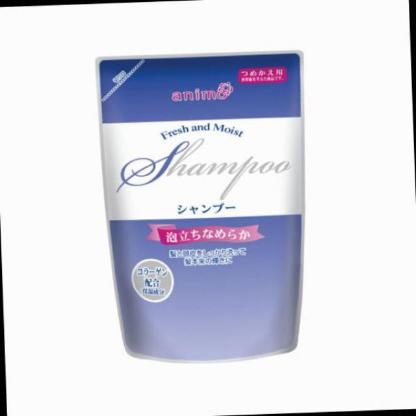Plastic Packaging: (96, 49, 306, 361)
